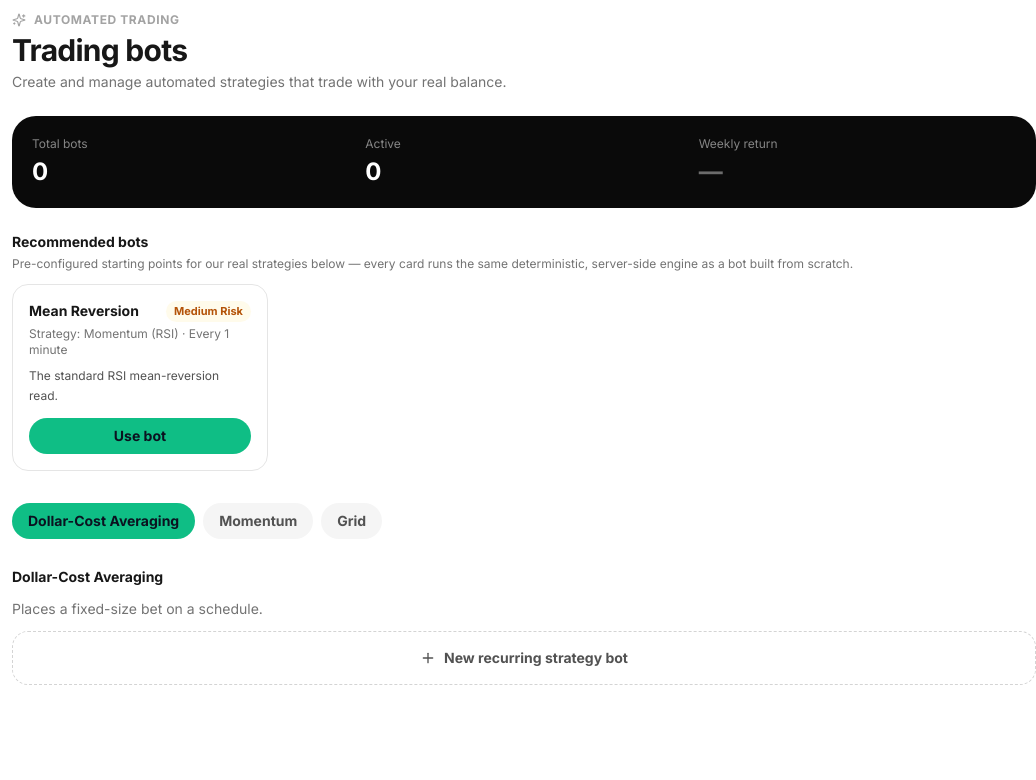
BotsBrowser › shows a coming-soon state for the Grid category rather than fake strategy cards
The image size is (1036, 780).
Check: the heading "Trading bots" is shown, box [12,32,187,68]
Click the button "Grid". click: x=352, y=520
box: [321,502,382,538]
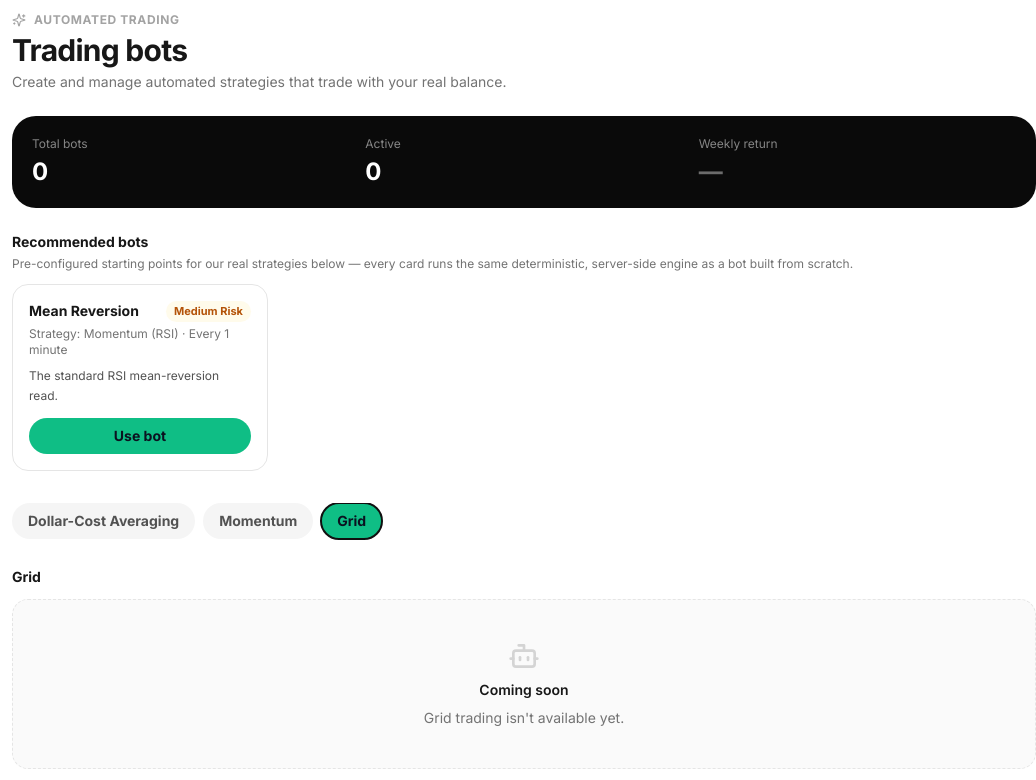
Check: the text "Coming soon" is shown, box [479,680,569,700]
